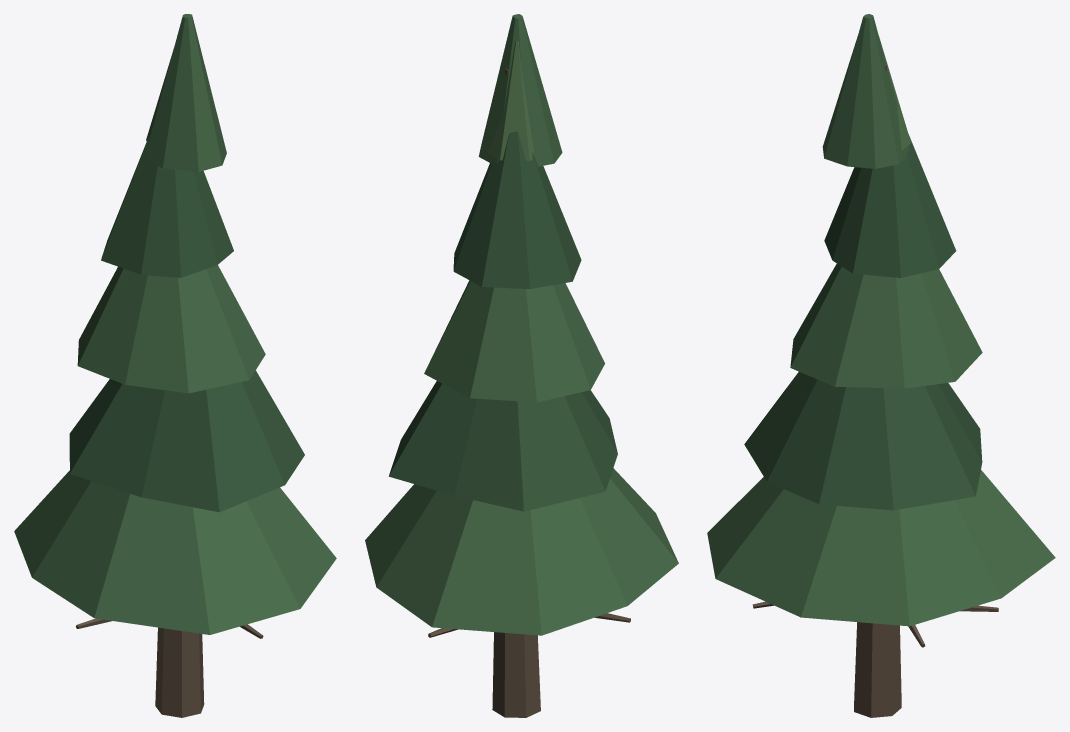
Rendered from tree_lvl2.glb.
The picture shows the model from 3 angles, left to right: view 1: azimuth 30°, elevation 25°; view 2: azimuth 150°, elevation 25°; view 3: azimuth 270°, elevation 25°; orthographic projection.
Visible parts, largest first — view 1: tree; view 2: tree; view 3: tree.
Part boxes in pixels (x1,y1,x2,y2): tree: [14, 14, 336, 717]; tree: [365, 14, 678, 717]; tree: [707, 14, 1055, 717].
Bounding box in the file's own units: 0.4773 × 1.19 × 0.5411.
